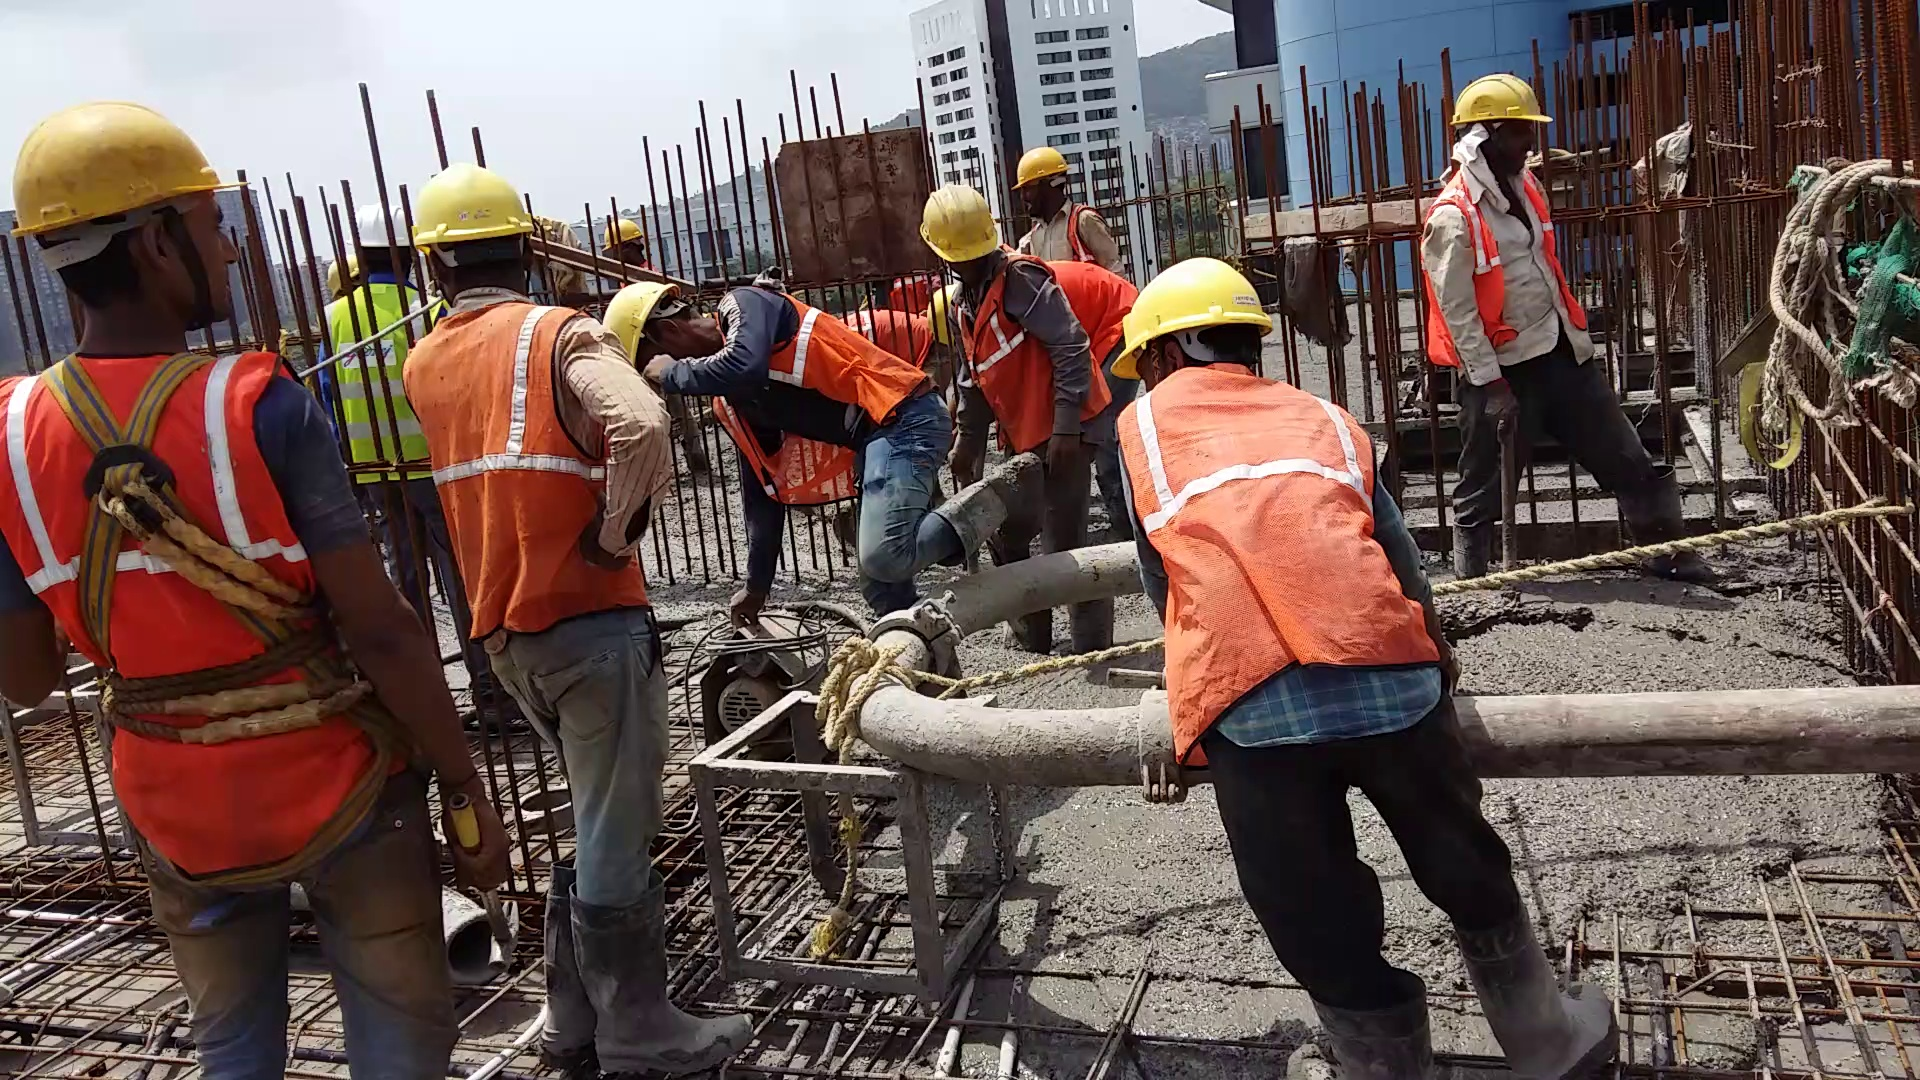SAFE: (7, 98, 332, 837), (1109, 255, 1379, 740), (414, 171, 593, 637), (1422, 65, 1584, 378), (618, 284, 920, 451), (923, 175, 1095, 447)
